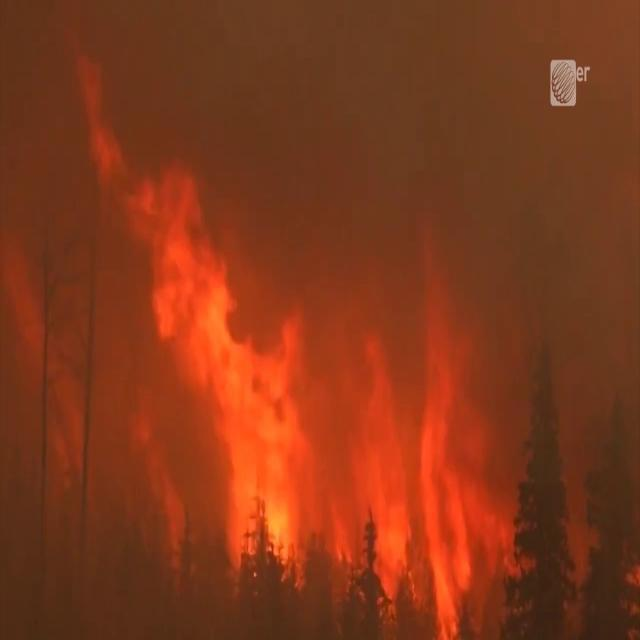Fire: (127, 157, 500, 620)
Smoke: (310, 1, 640, 568)
